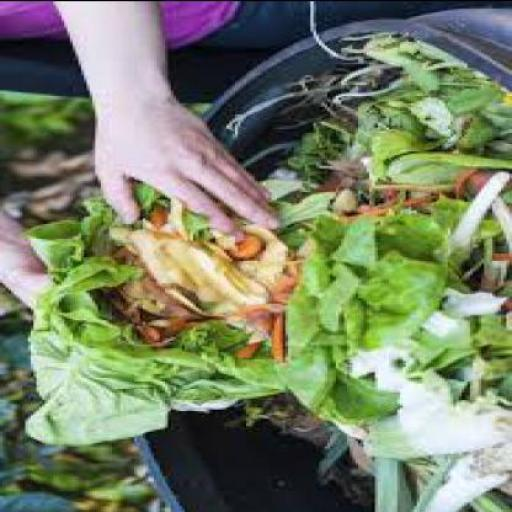biodegradable: (17, 282, 174, 442), (96, 214, 272, 316), (361, 284, 509, 393), (134, 308, 294, 406), (358, 370, 510, 456), (86, 244, 192, 346), (0, 399, 132, 475), (28, 214, 124, 294), (0, 462, 158, 510), (442, 166, 509, 262), (414, 193, 493, 267), (355, 253, 431, 325), (409, 452, 501, 510), (383, 147, 509, 189), (311, 62, 375, 142), (349, 90, 426, 156), (297, 154, 363, 228), (322, 371, 408, 427), (412, 91, 495, 148), (0, 87, 81, 143), (0, 169, 87, 221), (286, 113, 347, 187), (271, 339, 333, 411), (0, 310, 37, 414), (372, 199, 439, 255), (375, 206, 447, 258), (1, 141, 89, 178), (249, 224, 294, 294), (394, 49, 476, 83), (280, 284, 316, 358), (325, 212, 372, 267), (366, 455, 408, 510), (258, 265, 280, 364), (296, 238, 330, 300), (450, 120, 510, 152), (439, 80, 490, 117), (369, 127, 420, 161), (375, 71, 425, 105), (472, 84, 510, 128), (325, 404, 369, 442), (123, 180, 165, 218), (358, 31, 411, 61), (258, 160, 302, 196), (403, 57, 445, 89), (310, 211, 342, 251), (145, 198, 176, 238), (458, 167, 496, 196), (82, 193, 104, 235), (230, 232, 260, 262), (179, 212, 204, 245)
